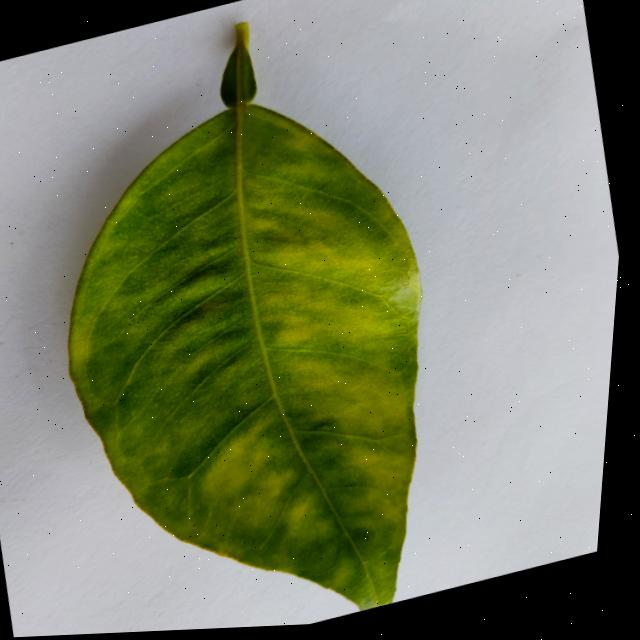greening: (69, 22, 421, 611)
